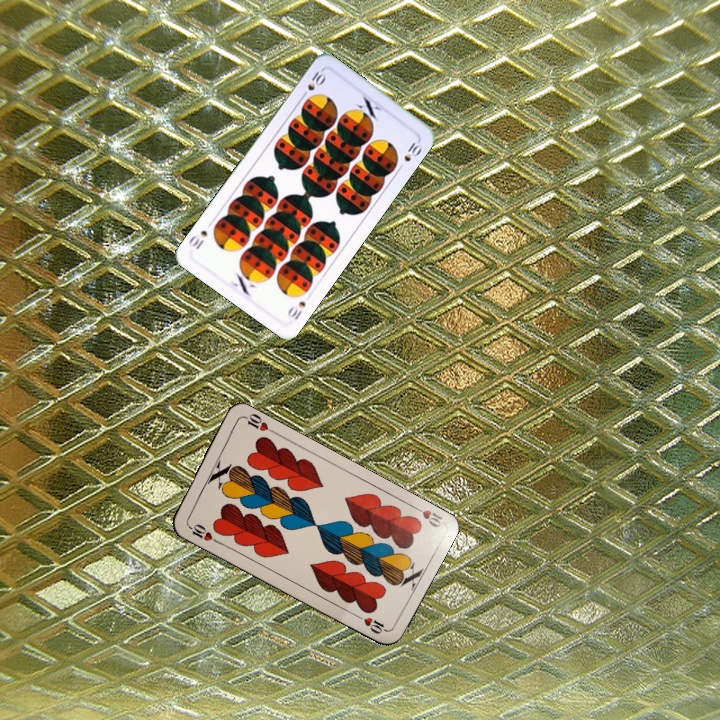H10: (408, 501, 445, 530), (183, 520, 221, 546)
S10: (297, 66, 329, 101), (283, 297, 308, 323)
